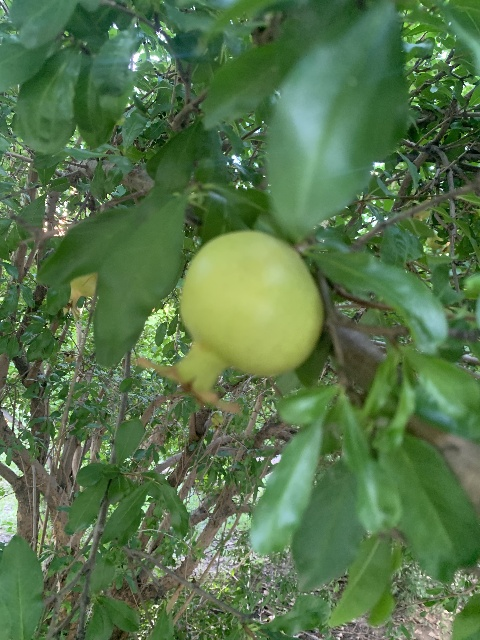mid-growth: (134, 230, 323, 418), (62, 272, 97, 321), (425, 234, 449, 253), (209, 411, 223, 430)
